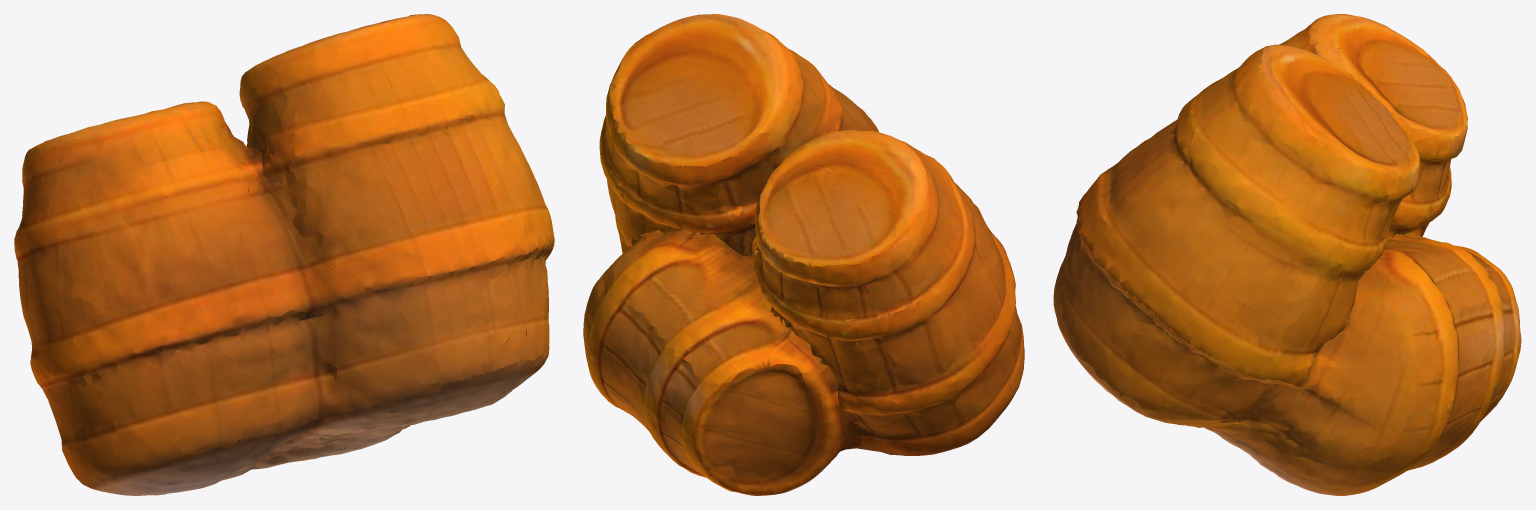
Rendered from oak2.glb.
The picture shows the model from 3 angles, left to right: view 1: azimuth 30°, elevation 25°; view 2: azimuth 150°, elevation 25°; view 3: azimuth 270°, elevation 25°; orthographic projection. The views are drawn at different scales.
Visible parts, largest first — view 1: world; view 2: world; view 3: world.
Boxes of the visible parts, <box> form: world: <box>14,14,554,495</box>; world: <box>583,14,1024,495</box>; world: <box>1053,14,1521,495</box>.
Size of the model in its own units: 0.9408 by 0.903 by 0.867.
Materials: 1 (1 with a texture image).
